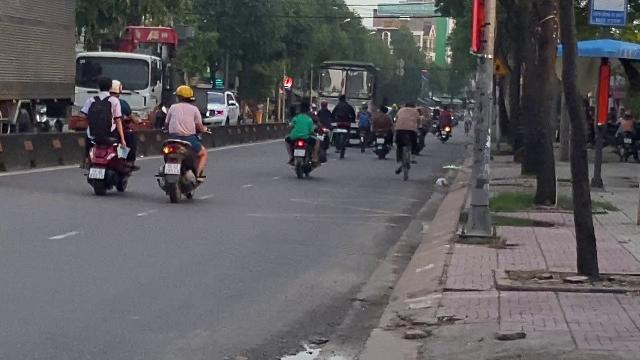helmet: (174, 84, 193, 102)
licenseplate: (166, 164, 180, 174), (90, 169, 104, 179)
motorcyclist: (80, 75, 136, 197), (155, 84, 209, 202)
nohelmet: (96, 75, 112, 93), (110, 79, 122, 95)
